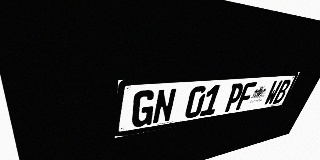0: (184, 86, 208, 119)
1: (199, 85, 223, 116)
B: (272, 79, 292, 104)
F: (235, 82, 257, 110)
G: (131, 89, 157, 128)
N: (152, 88, 177, 125)
P: (223, 83, 245, 112)
W: (263, 80, 283, 106)
